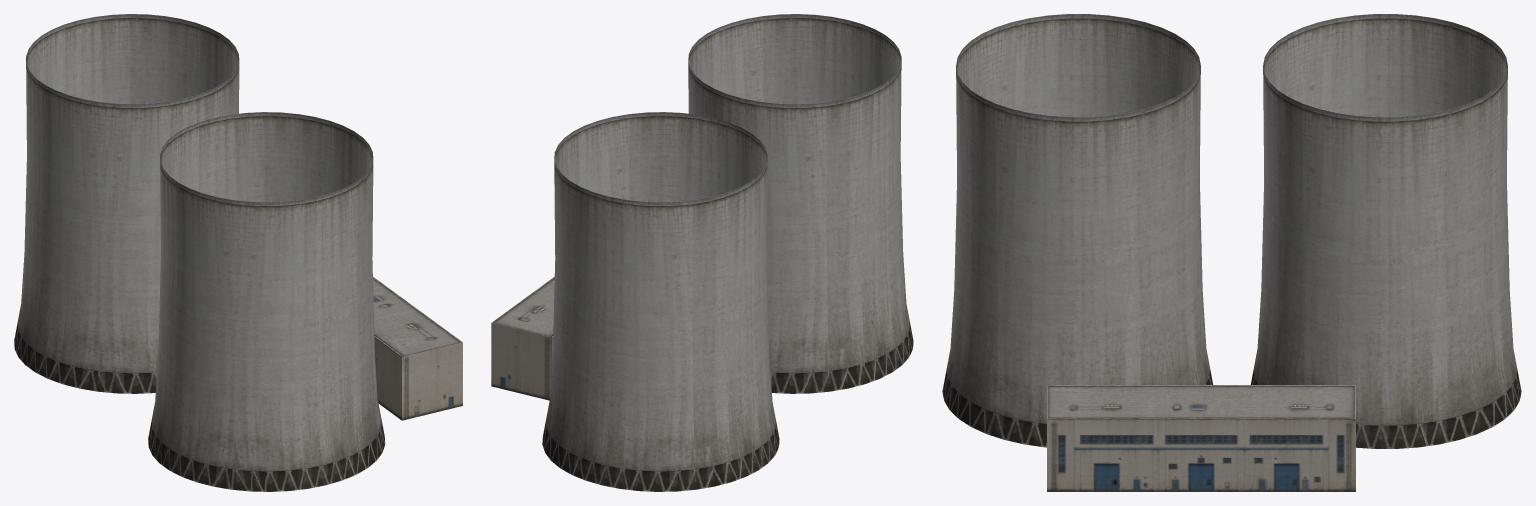
File: power_plant.glb
3 views of the same model, side by side, from view 1: azimuth 30°, elevation 25°; view 2: azimuth 150°, elevation 25°; view 3: azimuth 270°, elevation 25° (orthographic). The views are drawn at different scales.
Visible parts, largest first — view 1: Circle, Circle.001, Cube; view 2: Circle.001, Circle, Cube; view 3: Circle.001, Circle, Cube.
Part boxes in pixels (x1,y1,x2,y2): Circle: (148,112,385,491); Circle.001: (14,14,239,393); Cube: (373,277,462,420); Circle.001: (542,112,779,491); Circle: (688,14,913,393); Cube: (491,277,554,400); Circle.001: (1250,14,1521,448); Circle: (942,14,1213,447); Cube: (1047,385,1355,491).
Bounding box in the file's own units: 9.38 × 8.95 × 14.41.
Materials: 2 (2 with a texture image).
